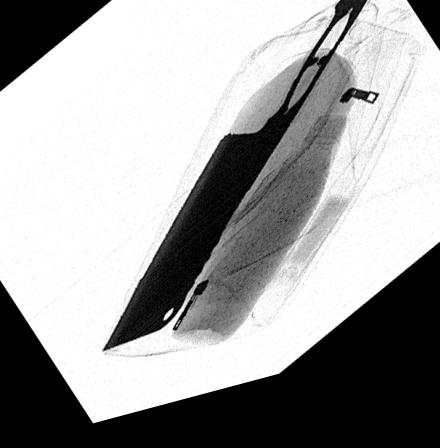Knife: (100, 2, 371, 357)
